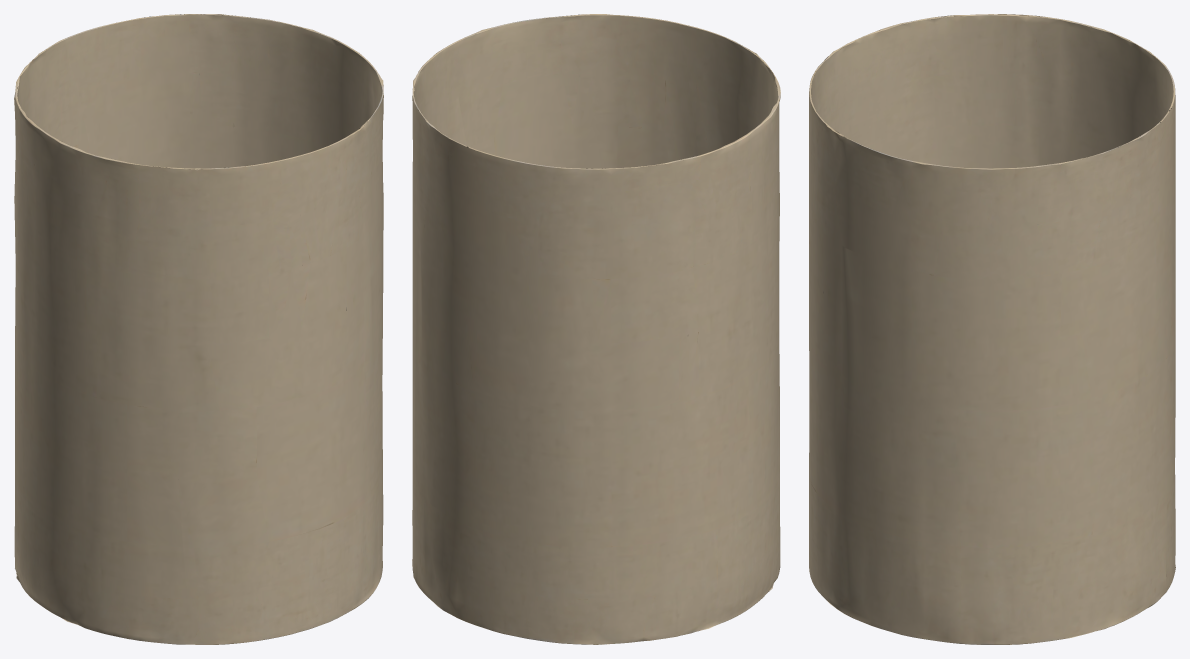
File: desktop.glb
3 renders of one model, left to right at view 1: azimuth 30°, elevation 25°; view 2: azimuth 150°, elevation 25°; view 3: azimuth 270°, elevation 25°, orthographic.
Parts seen in each view (by area): view 1: ceilinglight; view 2: ceilinglight; view 3: ceilinglight.
Part boxes in pixels (<box>): ceilinglight: <box>14,14,383,644</box>; ceilinglight: <box>412,14,780,644</box>; ceilinglight: <box>809,14,1175,644</box>.
Bounding box in the file's own units: 0.4499 × 0.6388 × 0.4457.
1 material, 1 textured.
